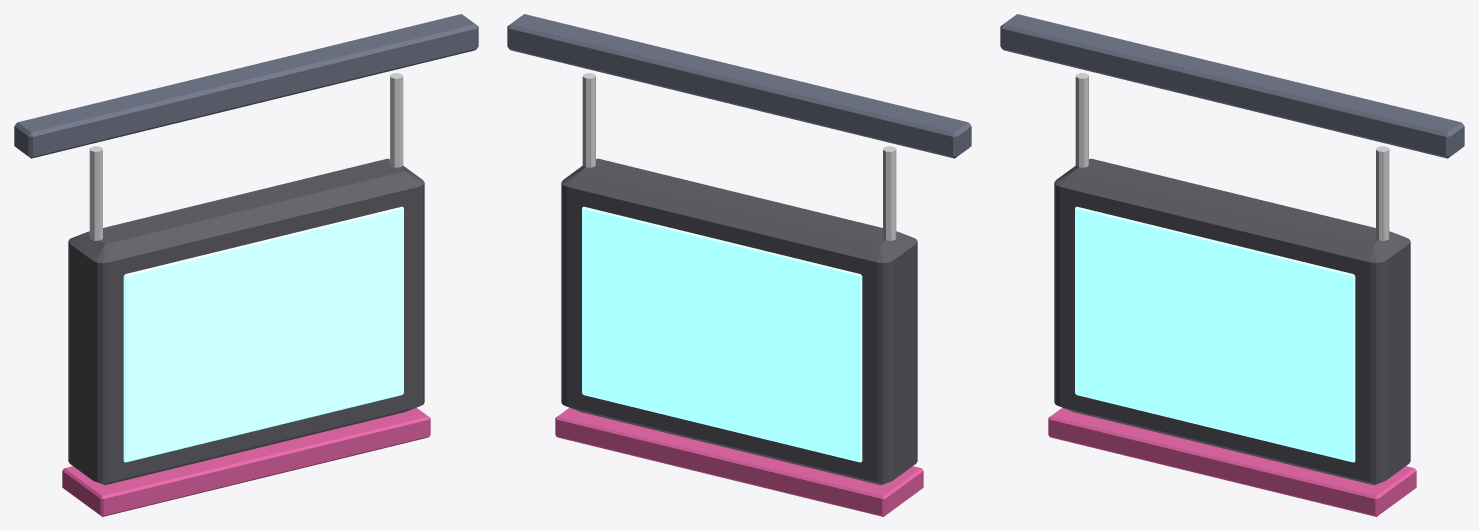
File: bowling-alley-and-pool-hall-lane-number-sign-59288499__33852.glb
3 renders of one model, left to right at view 1: azimuth 30°, elevation 25°; view 2: azimuth 150°, elevation 25°; view 3: azimuth 330°, elevation 25°, orthographic.
Parts seen in each view (by area): view 1: lane-number-sign; view 2: lane-number-sign; view 3: lane-number-sign.
Boxes of the visible parts, x1,y1,x2,y2 form: lane-number-sign: (14, 14, 478, 516); lane-number-sign: (507, 14, 971, 516); lane-number-sign: (1000, 14, 1464, 516).
Bounding box in the file's own units: 0.9 × 0.745 × 0.1399.
